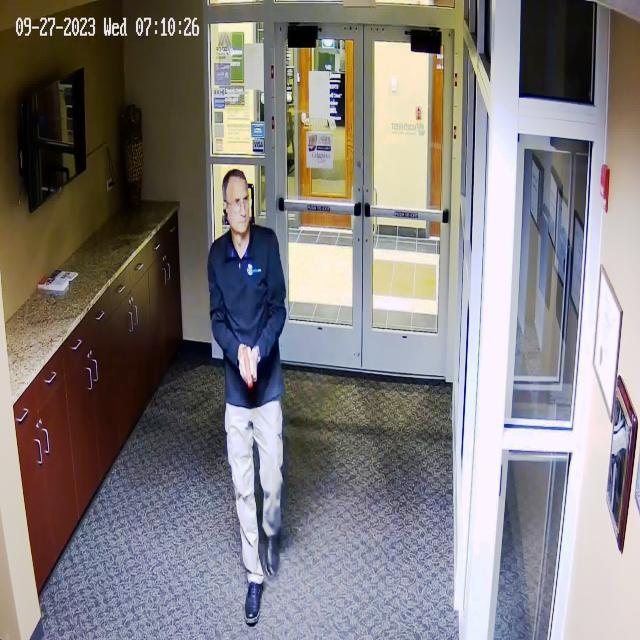Gun: (228, 338, 272, 397)
